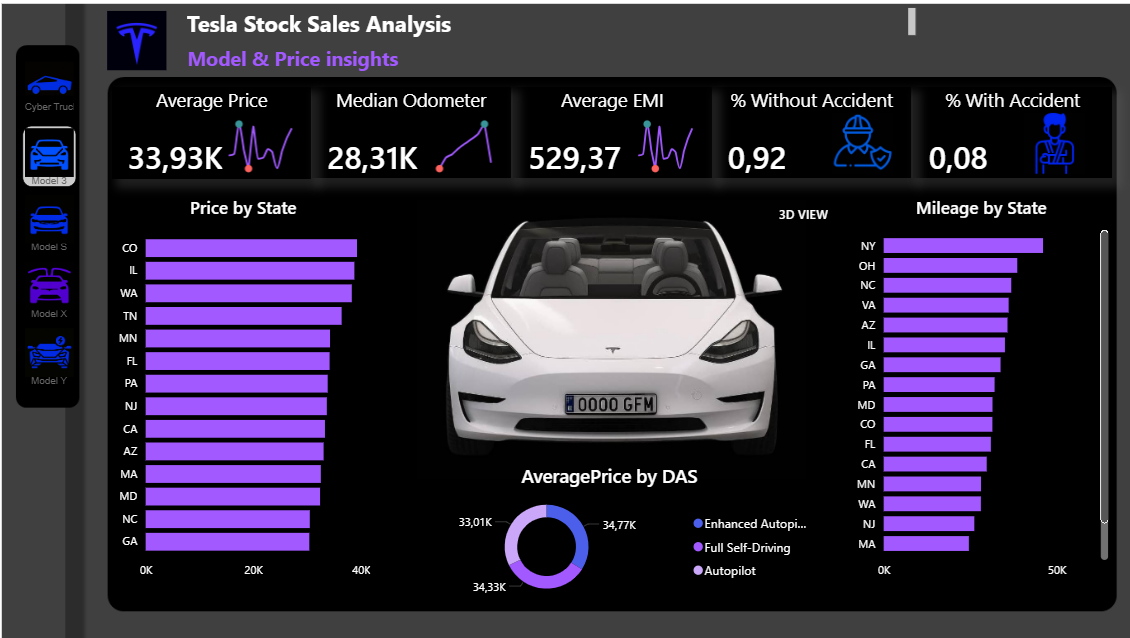

Layout of this report page (visuals, bound fields, positions):
{"tool":"powerbi","page":{"name":"Page 1","canvas":[1280,720],"ordinal":0},"visuals":[{"type":"image","title":"Average_Price","box":[0,0,1279.2,720.6],"z":0},{"type":"cardVisual","title":"Average Price","fields":{"Data":["Tesla Stock Dataset.AveragePrice"]},"box":[149,119.8,215.4,99],"z":1000},{"type":"cardVisual","title":"% With Accident","fields":{"Data":["Tesla Stock Dataset.PercentWithAccident"]},"box":[1013.6,119.8,215.4,98.8],"z":2000},{"type":"cardVisual","title":"% Without Accident","fields":{"Data":["Tesla Stock Dataset.PercentNoAccident"]},"box":[797.5,119.8,215.4,98.8],"z":3000},{"type":"cardVisual","title":"Average EMI","fields":{"Data":["Tesla Stock Dataset.AverageEMI"]},"box":[581.3,119.8,215.4,98.8],"z":4000},{"type":"cardVisual","title":"Median Odometer","fields":{"Data":["Tesla Stock Dataset.MedianOdometer"]},"box":[365.1,119.8,215.4,98.8],"z":5000},{"type":"image","box":[1104.3,142.5,124.7,76.1],"z":6000},{"type":"image","box":[905.1,142.5,106.9,76.1],"z":7000},{"type":"PBI_CV_25997FEB_F466_44FA_B562_AC4063283C4C","fields":{"measure":["Tesla Stock Dataset.AveragePrice"],"axis":["Tesla Stock Dataset.State"]},"box":[257.5,142.5,106.9,76.1],"z":8000},{"type":"PBI_CV_25997FEB_F466_44FA_B562_AC4063283C4C","fields":{"measure":["Median(Tesla Stock Dataset.odometer)"],"axis":["Tesla Stock Dataset.OdometerBin"]},"box":[484.1,142.5,95.5,76.1],"z":9000},{"type":"PBI_CV_25997FEB_F466_44FA_B562_AC4063283C4C","fields":{"axis":["Tesla Stock Dataset.State"],"measure":["Tesla Stock Dataset.AverageEMI"]},"box":[699.5,142.5,97.2,76.1],"z":10000},{"type":"ChicletSlicer1448559807354","fields":{"Category":["ModelSelector_Slicer.model"],"Image":["ModelSelector_Slicer.Icon Url"]},"box":[43.7,81,76.1,391.9],"z":11000},{"type":"simpleImageEBC4593F96F1425FB3D84C5BF02B5075","fields":{"imageURL":["ModelSelector_Slicer.image url"]},"box":[472.8,236.4,443.7,310.9],"z":12000},{"type":"barChart","title":"Price by State","fields":{"Category":["Tesla Stock Dataset.State Abb"],"Y":["Tesla Stock Dataset.AveragePrice"]},"box":[149,236.4,283.4,422.6],"z":13000},{"type":"barChart","title":"Mileage by State","fields":{"Category":["Tesla Stock Dataset.State Abb"],"Y":["Avg(Tesla Stock Dataset.odometer)"]},"box":[945.6,236.4,283.4,422.6],"z":14000},{"type":"donutChart","fields":{"Category":["Tesla Stock Dataset.DAS"],"Y":["Tesla Stock Dataset.AveragePrice"]},"box":[455,526.2,461.5,152.2],"z":15000},{"type":"actionButton","box":[845.2,236.4,100.4,40.5],"z":16000},{"type":"textbox","box":[225.6,29.1,796.7,48.6],"z":17000},{"type":"textbox","box":[225.6,68,796.7,48.6],"z":18000},{"type":"image","box":[123.1,32.4,105.2,74.5],"z":19000}]}

Visuals, with their boxes on the page's 1280x720 design canvas (x1, y1, x2, y2). These are canvas units, not pixel positions in the 1130x638 screenshot, which may show the page scaled, cropped or inside an application window:
"Average_Price" image: 0 0 1279 721
"Average Price" cardVisual: 149 120 364 219
"% With Accident" cardVisual: 1014 120 1229 219
"% Without Accident" cardVisual: 798 120 1013 219
"Average EMI" cardVisual: 581 120 797 219
"Median Odometer" cardVisual: 365 120 580 219
image: 1104 142 1229 219
image: 905 142 1012 219
PBI_CV_25997FEB_F466_44FA_B562_AC4063283C4C - Tesla Stock Dataset.AveragePrice x Tesla Stock Dataset.State: 258 142 364 219
PBI_CV_25997FEB_F466_44FA_B562_AC4063283C4C - Median(Tesla Stock Dataset.odometer) x Tesla Stock Dataset.OdometerBin: 484 142 580 219
PBI_CV_25997FEB_F466_44FA_B562_AC4063283C4C - Tesla Stock Dataset.State x Tesla Stock Dataset.AverageEMI: 700 142 797 219
ChicletSlicer1448559807354 - ModelSelector_Slicer.model x ModelSelector_Slicer.Icon Url: 44 81 120 473
simpleImageEBC4593F96F1425FB3D84C5BF02B5075 - ModelSelector_Slicer.image url: 473 236 916 547
"Price by State" barChart: 149 236 432 659
"Mileage by State" barChart: 946 236 1229 659
donutChart - Tesla Stock Dataset.DAS x Tesla Stock Dataset.AveragePrice: 455 526 916 678
actionButton: 845 236 946 277
textbox: 226 29 1022 78
textbox: 226 68 1022 117
image: 123 32 228 107
